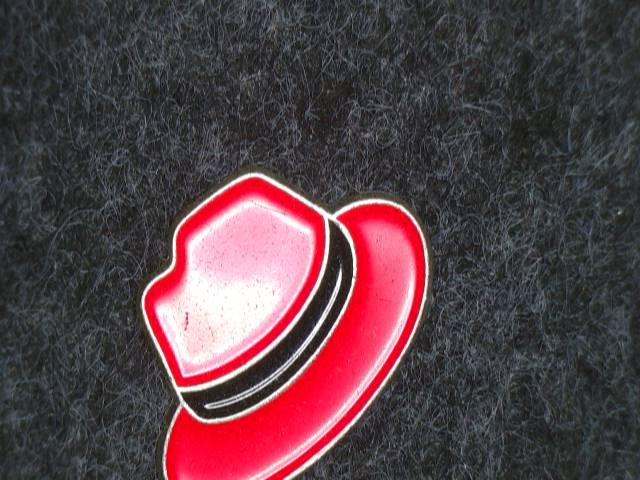Red-Hat: (96, 137, 462, 480)
